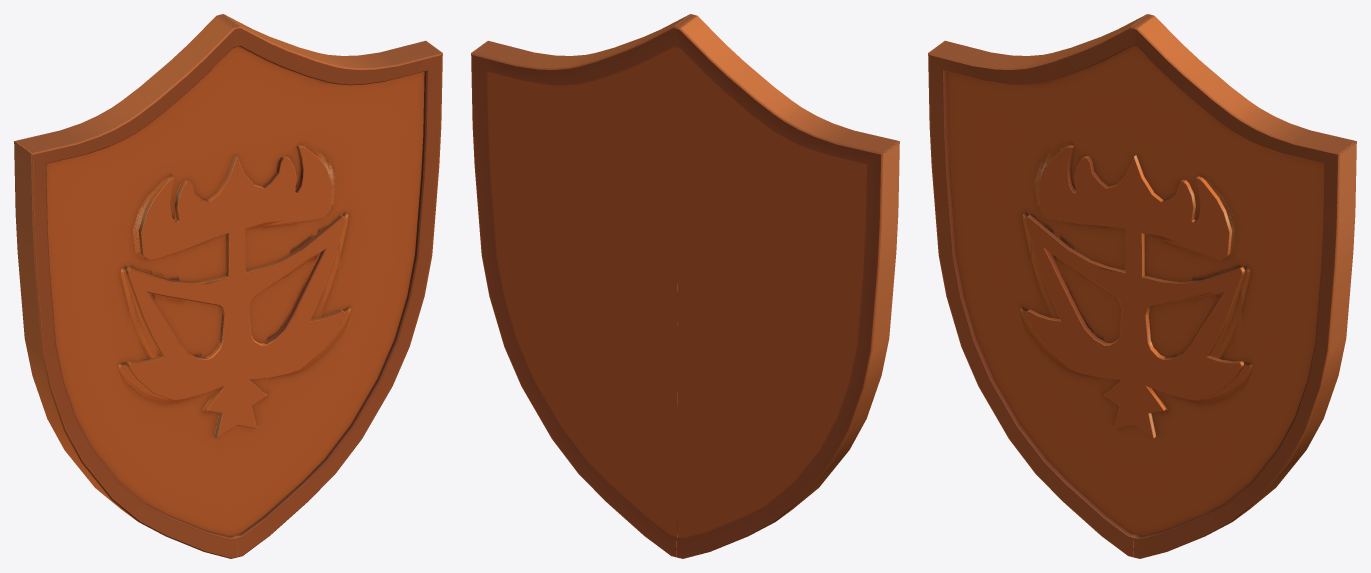
Rendered from Golden_Shield.fbx.
3 renders of one model, left to right at view 1: azimuth 30°, elevation 25°; view 2: azimuth 150°, elevation 25°; view 3: azimuth 330°, elevation 25°, orthographic.
Visible parts, largest first — view 1: Golden_Shield; view 2: Golden_Shield; view 3: Golden_Shield.
Boxes of the visible parts, x1,y1,x2,y2 form: Golden_Shield: [14, 14, 442, 558]; Golden_Shield: [471, 14, 899, 558]; Golden_Shield: [928, 14, 1356, 558].
Size of the model in its own units: 21.98 by 27.04 by 1.68.
1 material, 1 textured.
